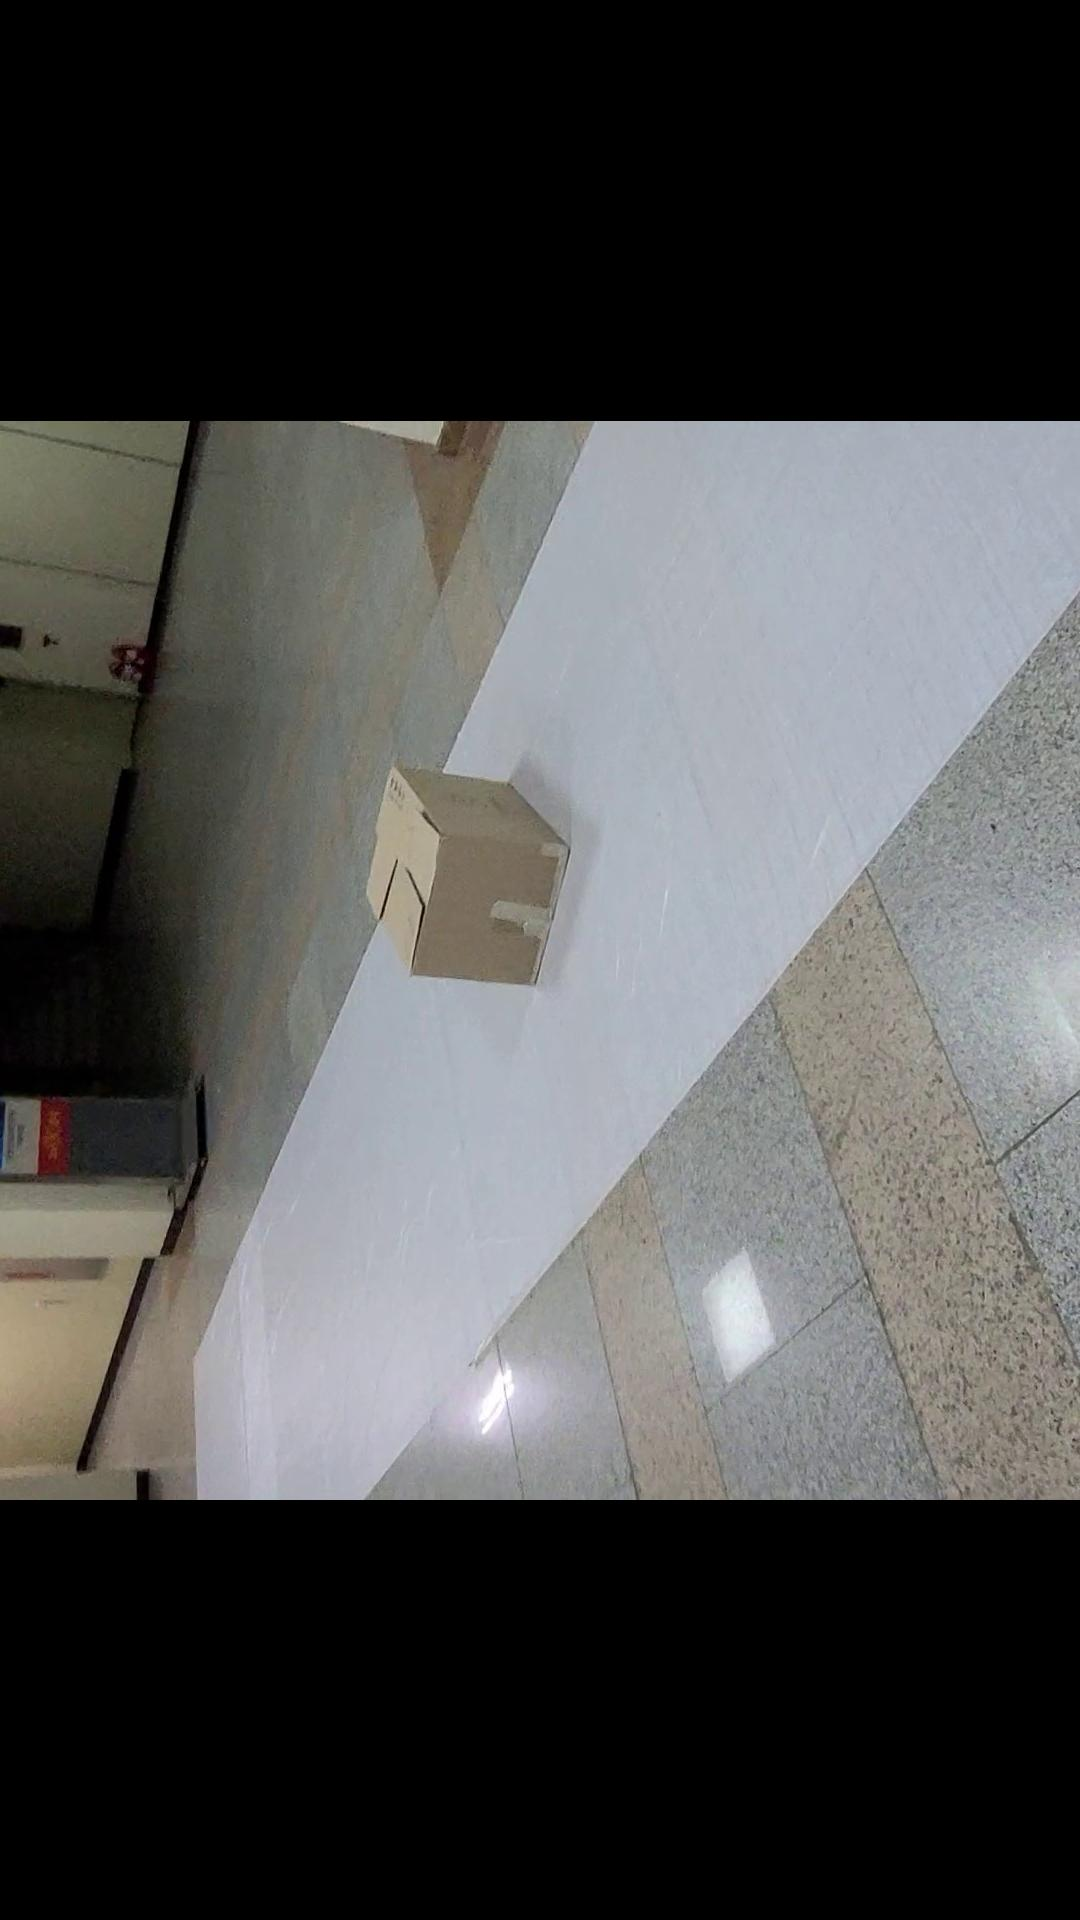Box: (353, 756, 574, 994)
